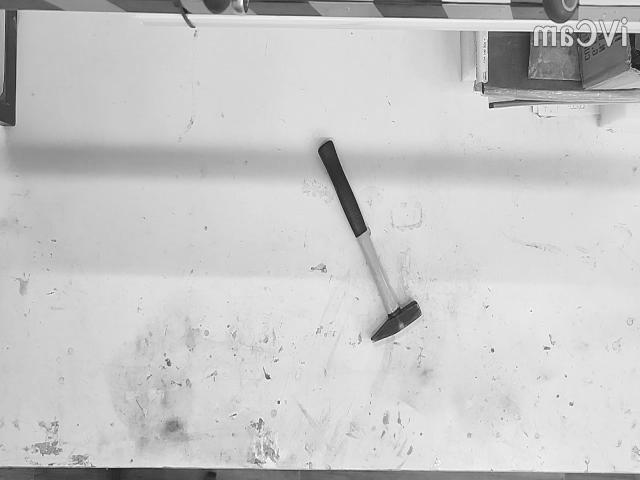Hammer: (318, 140, 421, 342)
